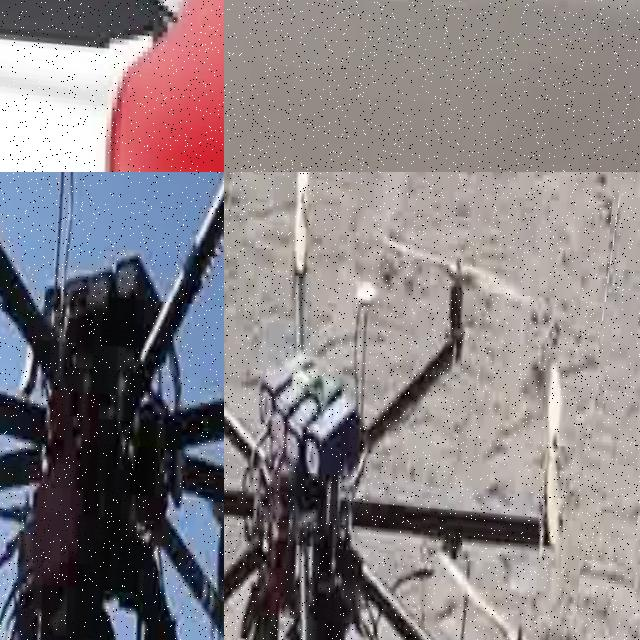drone: (224, 172, 615, 640), (0, 172, 224, 640), (0, 0, 224, 172)
